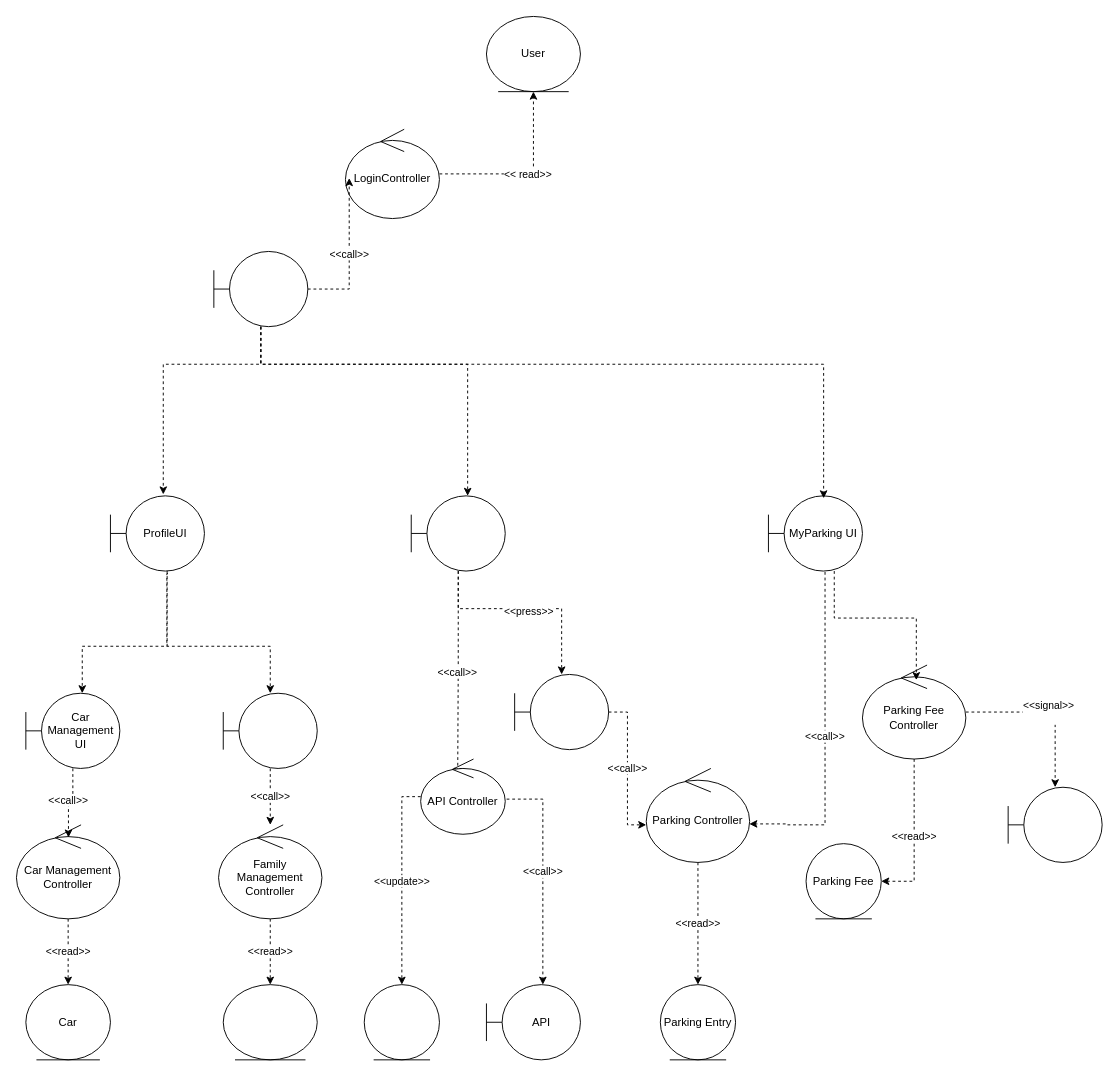
The diagram is 1119 pixels wide and 1076 high, and some of its shapes have lost their labels. The centre of each missing label's shape, as x and y in pixels:
"CarPark" belongs at (x=401, y=1022).
"Family" belongs at (x=269, y=1022).
"Family Management UI" belongs at (x=269, y=730).
"LoginUI" belongs at (x=260, y=289).
"MapUI" belongs at (x=457, y=533).
"Notification Alert" belongs at (x=1054, y=824).
"Park Button" belongs at (x=561, y=712).
